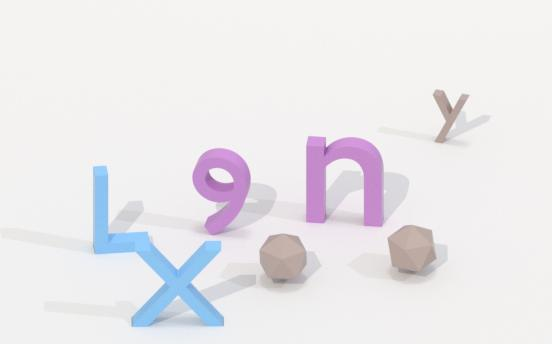9: (190, 149, 257, 239)
Y: (430, 84, 472, 147)
dagiac: (254, 231, 312, 284), (386, 222, 439, 274)
l: (87, 160, 164, 258)
n: (297, 131, 392, 230)
x: (124, 235, 231, 329)
